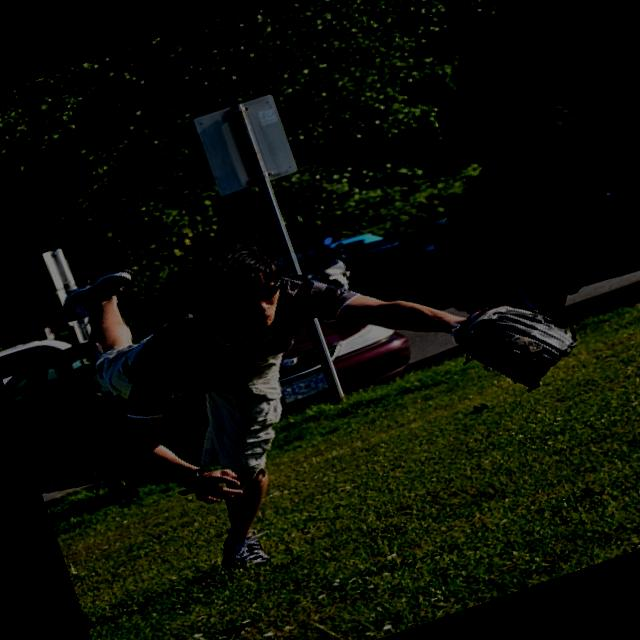Vehicle: (0, 236, 428, 523), (403, 120, 640, 346), (272, 217, 412, 310), (352, 214, 472, 314), (0, 324, 93, 405)
